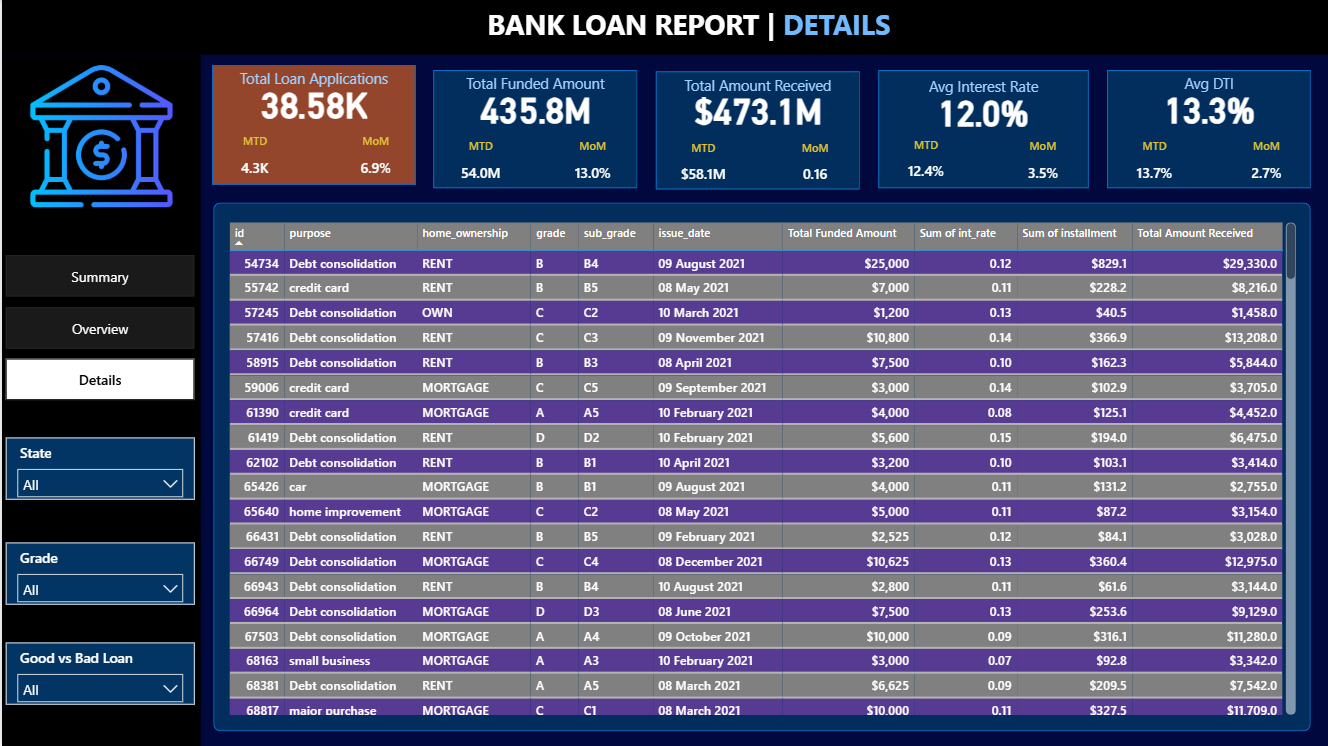

What the dashboard file says about the page in this screenshot:
{"tool":"powerbi","page":{"name":"Details","canvas":[1280,720],"ordinal":2},"visuals":[{"type":"shape","box":[0,53.1,191.8,667.2],"z":0},{"type":"shape","box":[0,0,1280,53],"z":1000},{"type":"shape","box":[202.7,62.4,196.6,115.7],"z":1000,"group":"g1"},{"type":"shape","box":[416.1,67.3,197.2,114.2],"z":1000,"group":"g2"},{"type":"shape","box":[1066.5,67.3,197.2,114.2],"z":1000,"group":"g4"},{"type":"shape","box":[845.3,67.6,203.3,114.2],"z":1000,"group":"g5"},{"type":"shape","box":[630.7,68.5,197.2,114.2],"z":1000,"group":"g3"},{"type":"cardVisual","fields":{"Data":["Bank_loan_data.Total Loan Application"]},"box":[204.2,76,195.4,53.1],"z":2000,"group":"g1"},{"type":"cardVisual","fields":{"Data":["Bank_loan_data.Total Funded Amount"]},"box":[417.6,80.7,196,52.4],"z":2000,"group":"g2"},{"type":"cardVisual","fields":{"Data":["Bank_loan_data.Avg DTI"]},"box":[1068,80.7,196,52.4],"z":2000,"group":"g4"},{"type":"cardVisual","fields":{"Data":["Bank_loan_data.Total Amount Received"]},"box":[632.2,81.9,196,52.4],"z":2000,"group":"g3"},{"type":"cardVisual","fields":{"Data":["Bank_loan_data.Avg Interest Rate"]},"box":[845.3,84.5,202.1,52.4],"z":2000,"group":"g5"},{"type":"shape","box":[203.9,195.4,1059.3,510.3],"z":2000},{"type":"textbox","box":[463.3,0,447.6,56.7],"z":3000},{"type":"group","id":"g1","title":"Group 1","box":[202.7,61.5,196.6,117],"z":4000},{"type":"textbox","box":[203,61.5,196.6,29],"z":5000,"group":"g1"},{"type":"group","id":"g2","title":"Group 1","box":[416.1,66.4,197.9,115.8],"z":5000},{"type":"textbox","box":[416.4,66.4,197.2,28.6],"z":5000,"group":"g2"},{"type":"textbox","box":[1066.8,66.4,197.2,28.6],"z":5000,"group":"g4"},{"type":"textbox","box":[631,67.6,197.2,28.6],"z":5000,"group":"g3"},{"type":"textbox","box":[845.3,68.8,203.4,28.6],"z":5000,"group":"g5"},{"type":"group","id":"g3","title":"Group 1","box":[630.7,67.6,197.9,115.8],"z":6000},{"type":"cardVisual","title":"MTD","fields":{"Data":["Bank_loan_data.MTD Loan Applications"]},"box":[204.2,129.1,80.8,49.5],"z":6000,"group":"g1"},{"type":"cardVisual","title":"MTD","fields":{"Data":["Bank_loan_data.MTD Avg Interest Rate"]},"box":[845.3,132.7,92.3,48.8],"z":6000,"group":"g5"},{"type":"cardVisual","title":"MTD","fields":{"Data":["Bank_loan_data.MTD Funded Amount"]},"box":[416.8,133.4,89.5,48.8],"z":6000,"group":"g2"},{"type":"cardVisual","title":"MTD","fields":{"Data":["Bank_loan_data.MTD Avg DTI"]},"box":[1067.2,133.4,89.5,48.8],"z":6000,"group":"g4"},{"type":"cardVisual","title":"MTD","fields":{"Data":["Bank_loan_data.MTD Total Amount Received"]},"box":[631.4,134.6,89.5,48.8],"z":6000,"group":"g3"},{"type":"group","id":"g4","title":"Group 1","box":[1066.5,66.4,197.9,115.8],"z":7000},{"type":"cardVisual","title":"MoM","fields":{"Data":["Bank_loan_data.MoM Loan Applications"]},"box":[322.4,129.1,77.2,49.5],"z":7000,"group":"g1"},{"type":"cardVisual","title":"MoM","fields":{"Data":["Bank_loan_data.MoM Total Funded Amount"]},"box":[525.6,133.4,88.3,48.8],"z":7000,"group":"g2"},{"type":"cardVisual","title":"MoM","fields":{"Data":["Bank_loan_data.MoM Avg DTI"]},"box":[1176,133.4,88.3,48.8],"z":7000,"group":"g4"},{"type":"cardVisual","title":"MoM","fields":{"Data":["Bank_loan_data.MoM Avg Interest Rate"]},"box":[958.7,134,91.1,48.8],"z":7000,"group":"g5"},{"type":"cardVisual","title":"MoM","fields":{"Data":["Bank_loan_data.MoM Total Amount Recievedt"]},"box":[740.2,134.6,88.3,48.8],"z":7000,"group":"g3"},{"type":"slicer","fields":{"Values":["Bank_loan_data.address_state"]},"box":[3.6,422.3,182.2,60.3],"z":8000},{"type":"slicer","fields":{"Values":["Bank_loan_data.grade"]},"box":[3.6,523.6,182.2,60.3],"z":9000},{"type":"slicer","fields":{"Values":["Bank_loan_data.Good vs Bad Loan"]},"box":[3.6,620.1,182.2,60.3],"z":10000},{"type":"group","id":"g5","title":"Group 2","box":[845.3,67.6,204.5,115.2],"z":11000},{"type":"tableEx","fields":{"Values":["Bank_loan_data.id","Bank_loan_data.purpose","Bank_loan_data.home_ownership","Bank_loan_data.grade","Bank_loan_data.sub_grade","Bank_loan_data.issue_date","Bank_loan_data.Total Funded Amount","Sum(Bank_loan_data.int_rate)","Sum(Bank_loan_data.installment)","Bank_loan_data.Total Amount Received"]},"box":[213.5,209.9,1040,485],"z":12000},{"type":"image","box":[0,53.1,191.8,156.8],"z":13000},{"type":"pageNavigator","box":[3.6,246.1,182.2,141.2],"z":14000}]}

Visuals, with their boxes in screenshot pixels (x1, y1, x2, y2), scaled from the page's 1280x720 canvas onto the 1328x746 screenshot:
shape: [x1=0, y1=55, x2=199, y2=745]
shape: [x1=0, y1=0, x2=1327, y2=55]
shape: [x1=210, y1=65, x2=414, y2=185]
shape: [x1=432, y1=70, x2=636, y2=188]
shape: [x1=1106, y1=70, x2=1311, y2=188]
shape: [x1=877, y1=70, x2=1088, y2=188]
shape: [x1=654, y1=71, x2=859, y2=189]
cardVisual - Bank_loan_data.Total Loan Application: [x1=212, y1=79, x2=415, y2=134]
cardVisual - Bank_loan_data.Total Funded Amount: [x1=433, y1=84, x2=637, y2=138]
cardVisual - Bank_loan_data.Avg DTI: [x1=1108, y1=84, x2=1311, y2=138]
cardVisual - Bank_loan_data.Total Amount Received: [x1=656, y1=85, x2=859, y2=139]
cardVisual - Bank_loan_data.Avg Interest Rate: [x1=877, y1=88, x2=1087, y2=142]
shape: [x1=212, y1=202, x2=1311, y2=731]
textbox: [x1=481, y1=0, x2=945, y2=59]
"Group 1" group: [x1=210, y1=64, x2=414, y2=185]
textbox: [x1=211, y1=64, x2=415, y2=94]
"Group 1" group: [x1=432, y1=69, x2=637, y2=189]
textbox: [x1=432, y1=69, x2=637, y2=98]
textbox: [x1=1107, y1=69, x2=1311, y2=98]
textbox: [x1=655, y1=70, x2=859, y2=100]
textbox: [x1=877, y1=71, x2=1088, y2=101]
"Group 1" group: [x1=654, y1=70, x2=860, y2=190]
"MTD" cardVisual: [x1=212, y1=134, x2=296, y2=185]
"MTD" cardVisual: [x1=877, y1=137, x2=973, y2=188]
"MTD" cardVisual: [x1=432, y1=138, x2=525, y2=189]
"MTD" cardVisual: [x1=1107, y1=138, x2=1200, y2=189]
"MTD" cardVisual: [x1=655, y1=139, x2=748, y2=190]
"Group 1" group: [x1=1106, y1=69, x2=1312, y2=189]
"MoM" cardVisual: [x1=334, y1=134, x2=415, y2=185]
"MoM" cardVisual: [x1=545, y1=138, x2=637, y2=189]
"MoM" cardVisual: [x1=1220, y1=138, x2=1312, y2=189]
"MoM" cardVisual: [x1=995, y1=139, x2=1089, y2=189]
"MoM" cardVisual: [x1=768, y1=139, x2=860, y2=190]
slicer - Bank_loan_data.address_state: [x1=4, y1=438, x2=193, y2=500]
slicer - Bank_loan_data.grade: [x1=4, y1=543, x2=193, y2=605]
slicer - Bank_loan_data.Good vs Bad Loan: [x1=4, y1=642, x2=193, y2=705]
"Group 2" group: [x1=877, y1=70, x2=1089, y2=189]
tableEx - Bank_loan_data.id x Bank_loan_data.purpose: [x1=222, y1=217, x2=1301, y2=720]
image: [x1=0, y1=55, x2=199, y2=217]
pageNavigator: [x1=4, y1=255, x2=193, y2=401]
